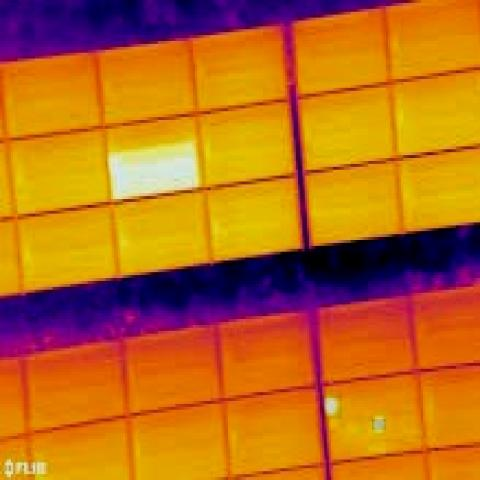fault: (108, 143, 202, 199), (322, 395, 342, 419), (372, 419, 386, 430)
